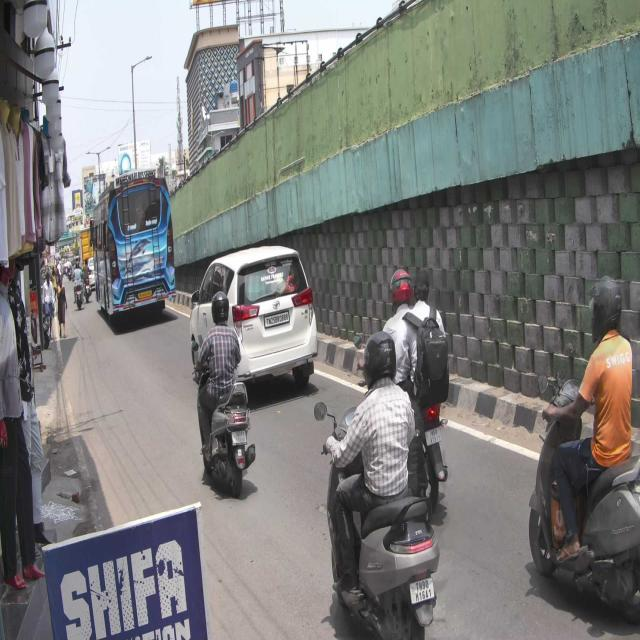single_rider: (528, 270, 640, 630), (315, 328, 441, 640), (194, 289, 258, 502)
